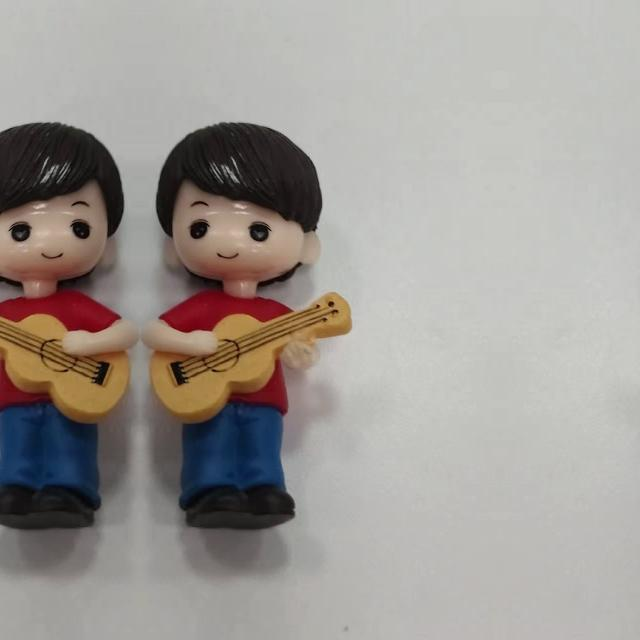man cloth: (156, 296, 316, 408), (0, 296, 124, 408)
man head: (155, 118, 325, 292), (0, 118, 125, 291)
trousers: (176, 404, 304, 542), (0, 404, 104, 542)
